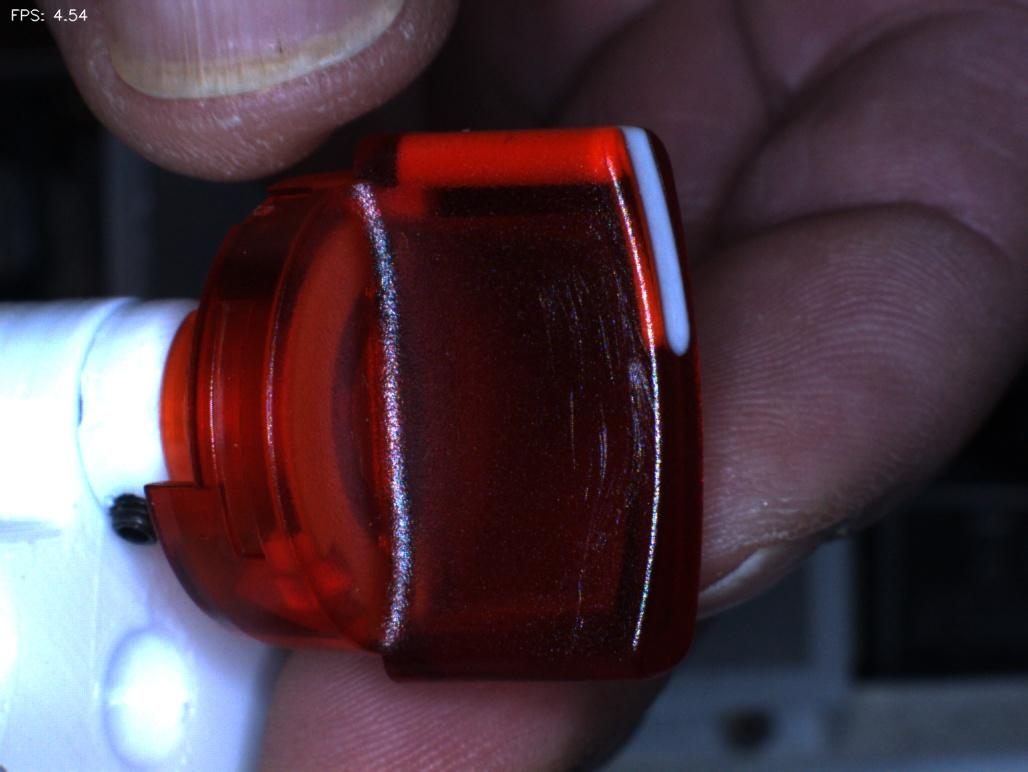Givrage: (535, 247, 655, 529)
